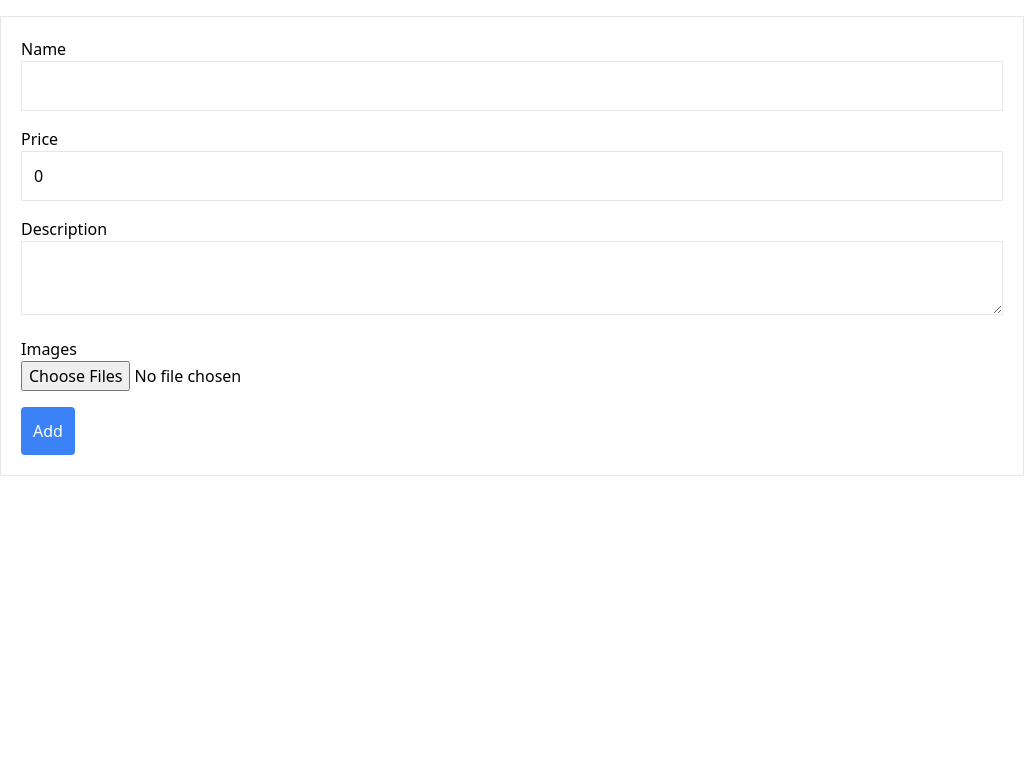
Test: 상품 등록 Mutation이 FormData를 보내고 목록 캐시를 무효화한다
Type "신상품" into the field labelled "Name" at (512, 86), box [21,61,1003,111]
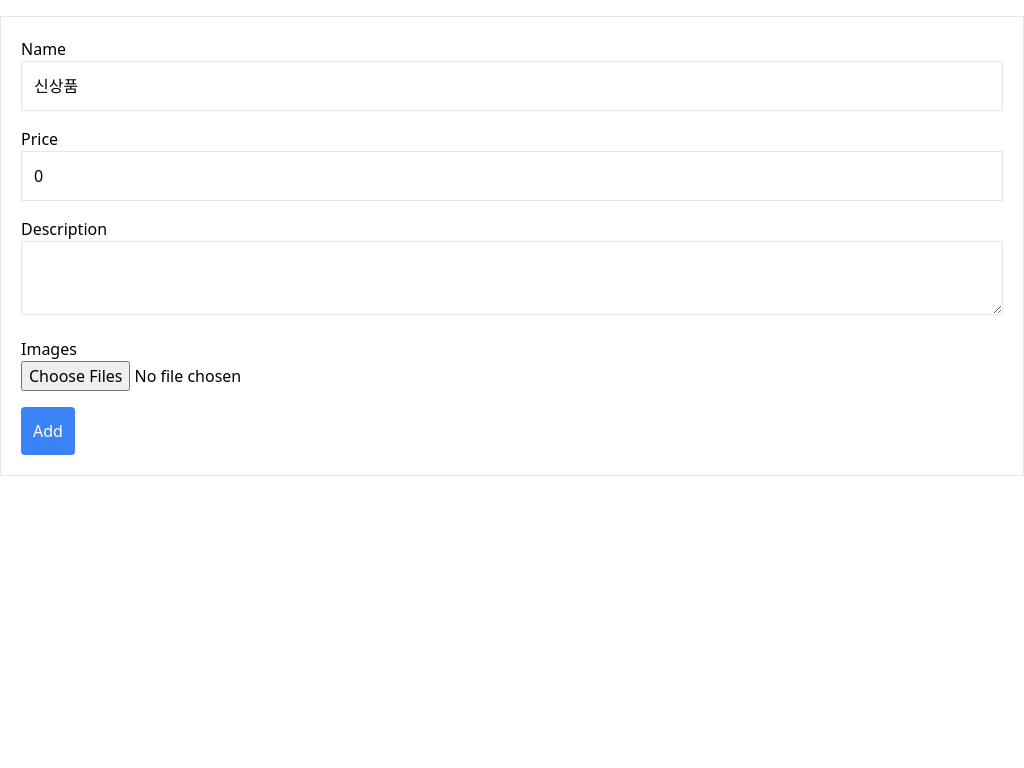
Replace the text in the number field labelled "Price" with "1200" at (512, 176), box [21,151,1003,201]
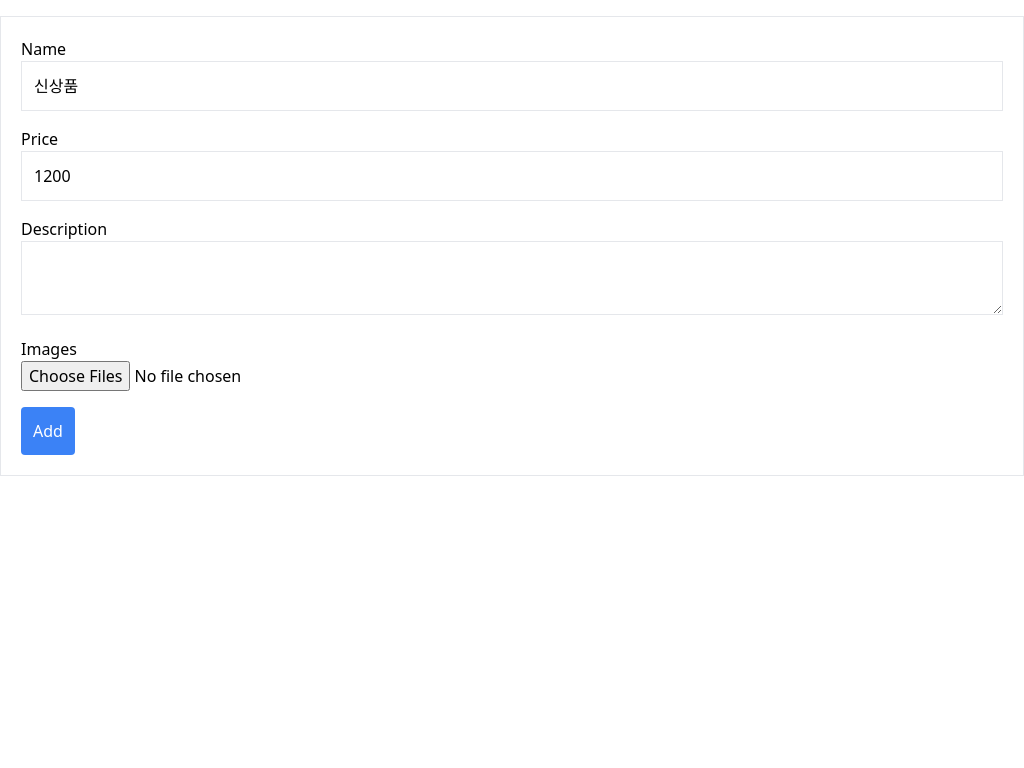
Type "설명" into the text box labelled "Description" at (512, 278), box [21,241,1003,315]
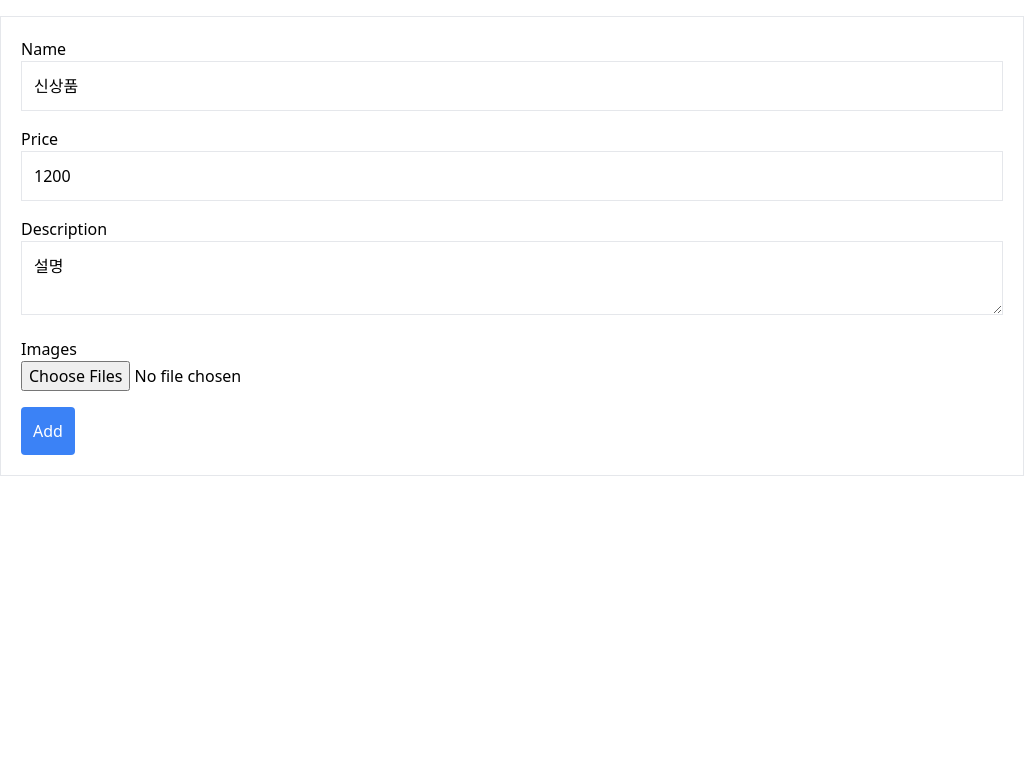
Submit the form "Add", box [21,37,1003,455]
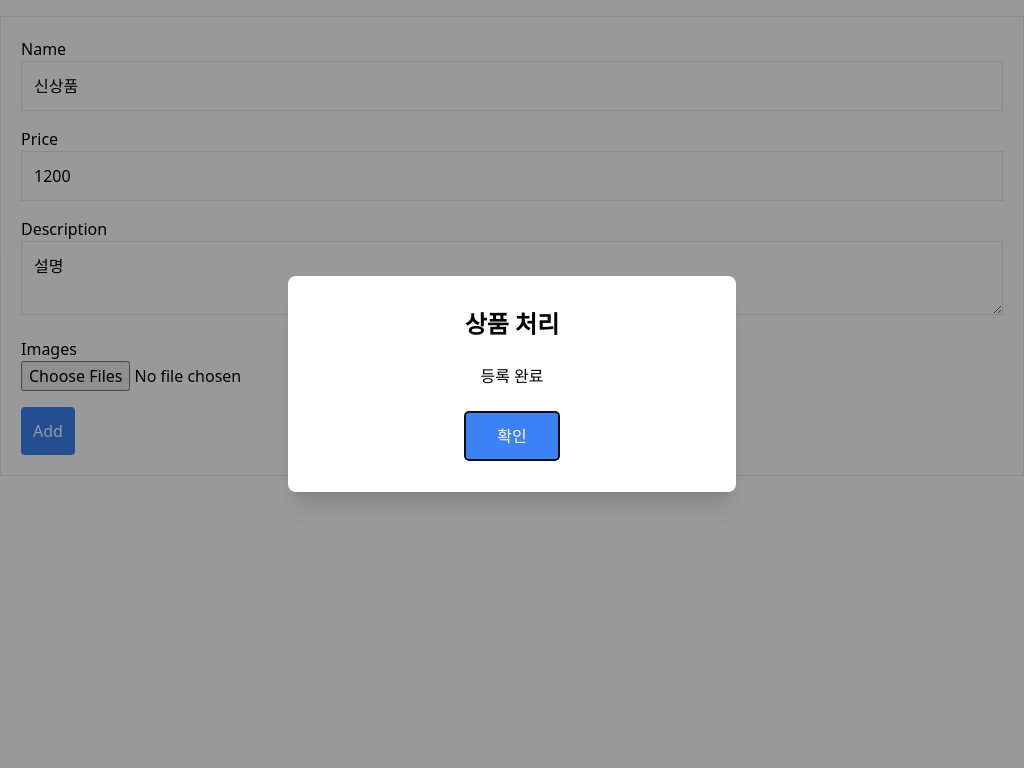
Check: the text "등록 완료" is shown, box [480,365,544,387]
